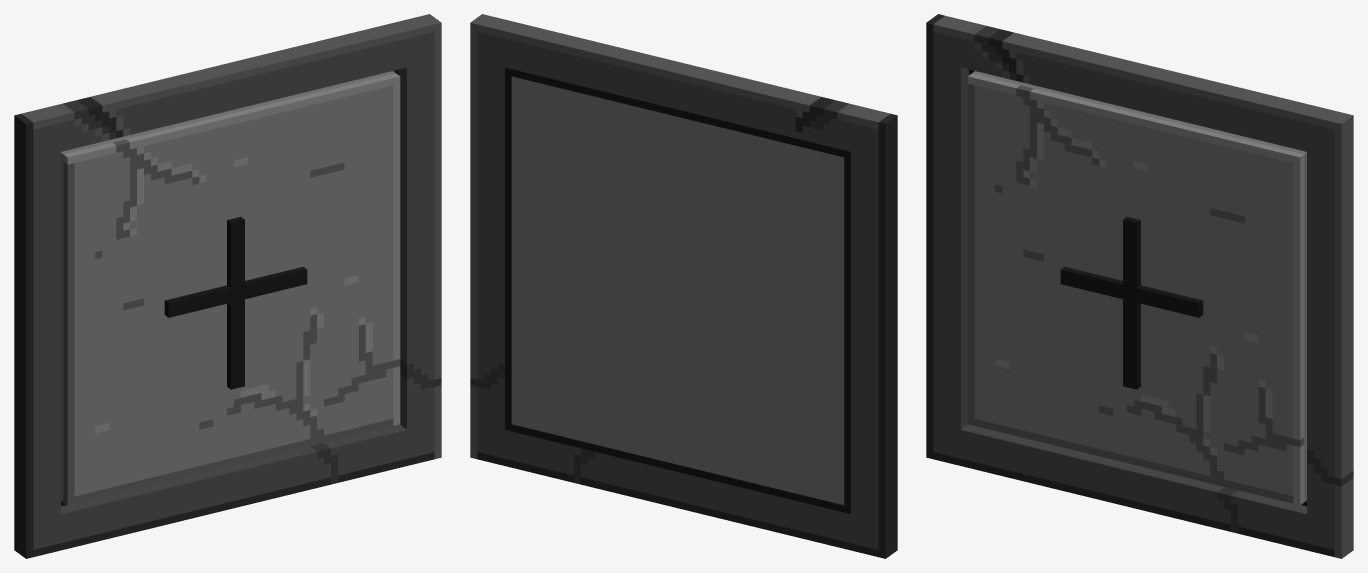
File: balpan_10.obj
3 renders of one model, left to right at view 1: azimuth 30°, elevation 25°; view 2: azimuth 150°, elevation 25°; view 3: azimuth 330°, elevation 25°, orthographic.
Visible parts, largest first — view 1: balpan_10; view 2: balpan_10; view 3: balpan_10.
Boxes of the visible parts, box(x1,y1,x2,y2) form: balpan_10: box(14, 14, 441, 558); balpan_10: box(470, 14, 897, 558); balpan_10: box(926, 14, 1353, 558).
Size of the model in its own units: 60 by 60 by 4.
1 material, 1 textured.
